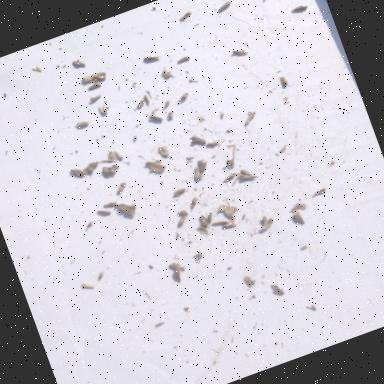pbw: (190, 133, 206, 149), (143, 52, 161, 66), (270, 282, 285, 298), (84, 160, 100, 174), (232, 47, 249, 60), (240, 171, 258, 183), (114, 182, 129, 196), (176, 92, 190, 106), (221, 172, 237, 184), (188, 196, 201, 210), (72, 57, 86, 70), (292, 213, 306, 226), (290, 4, 308, 14), (243, 112, 258, 124), (174, 216, 189, 228), (149, 112, 163, 124), (106, 150, 118, 164), (204, 213, 216, 226), (113, 148, 124, 162), (96, 207, 110, 218), (103, 201, 118, 211), (87, 82, 102, 92), (212, 218, 227, 228), (177, 12, 192, 22), (217, 0, 232, 10), (240, 167, 252, 179), (199, 214, 209, 228), (222, 222, 236, 232), (88, 94, 102, 102), (76, 120, 89, 128), (176, 56, 190, 63), (198, 163, 206, 174), (226, 159, 234, 170), (136, 100, 146, 108), (144, 95, 150, 105)
